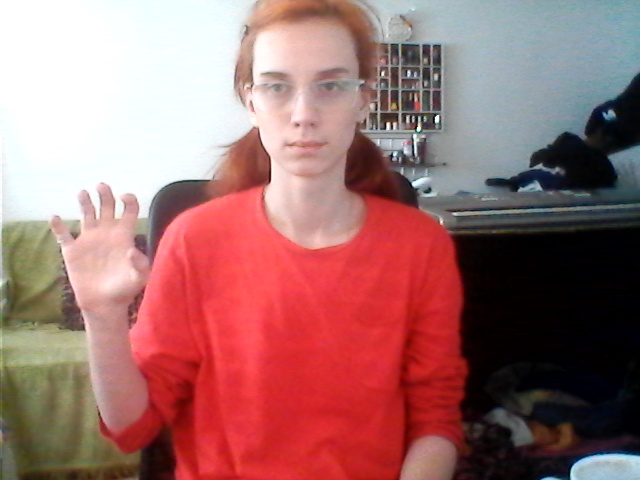budova: (44, 179, 158, 316)
